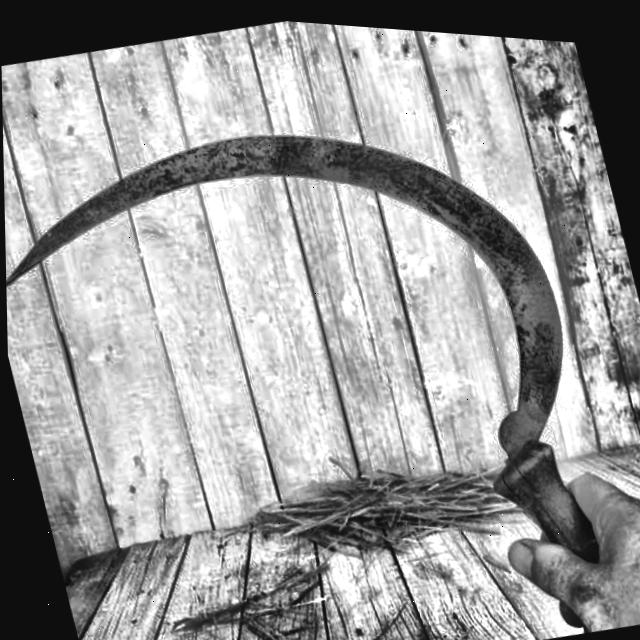celurit: (6, 124, 619, 623)
